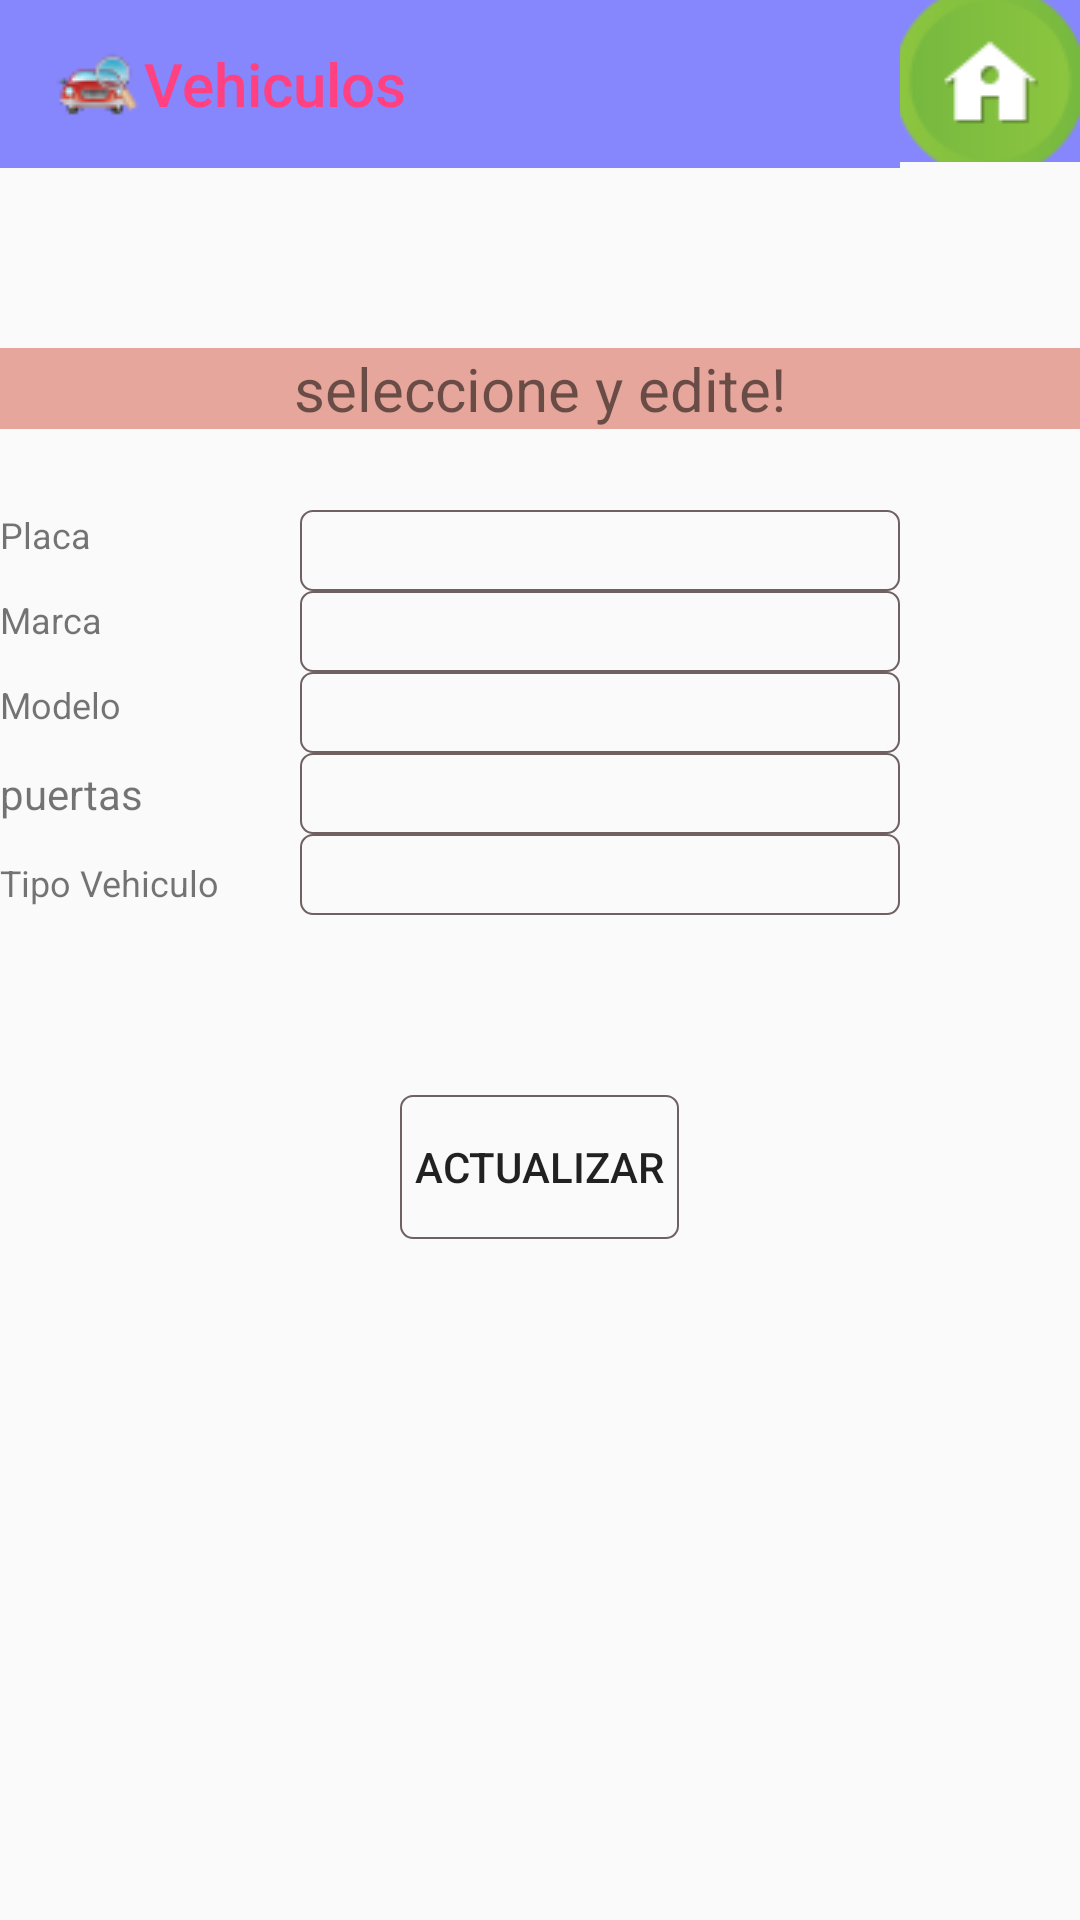

Icon click points for this 1080px x 1920px phone screenshot, format [x,y]:
home: [990,81]
